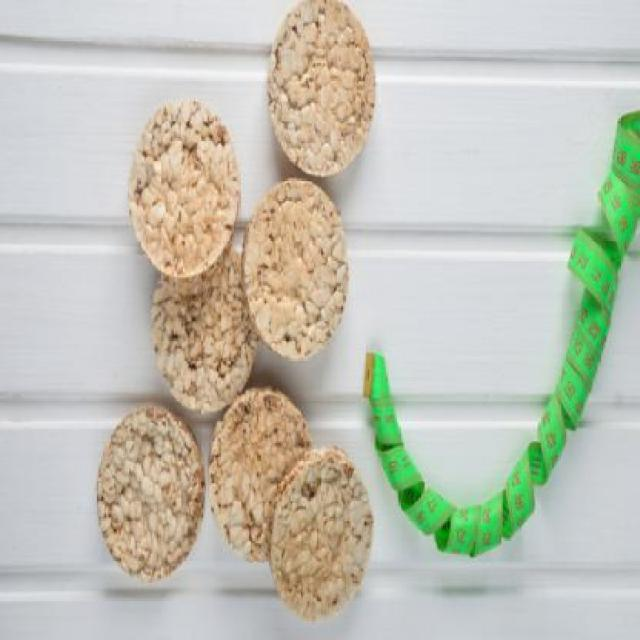Gallette di riso packaged: (264, 442, 378, 628), (122, 100, 242, 274), (264, 1, 378, 181), (97, 397, 206, 574), (147, 240, 256, 414), (244, 186, 350, 362), (210, 386, 318, 557)
